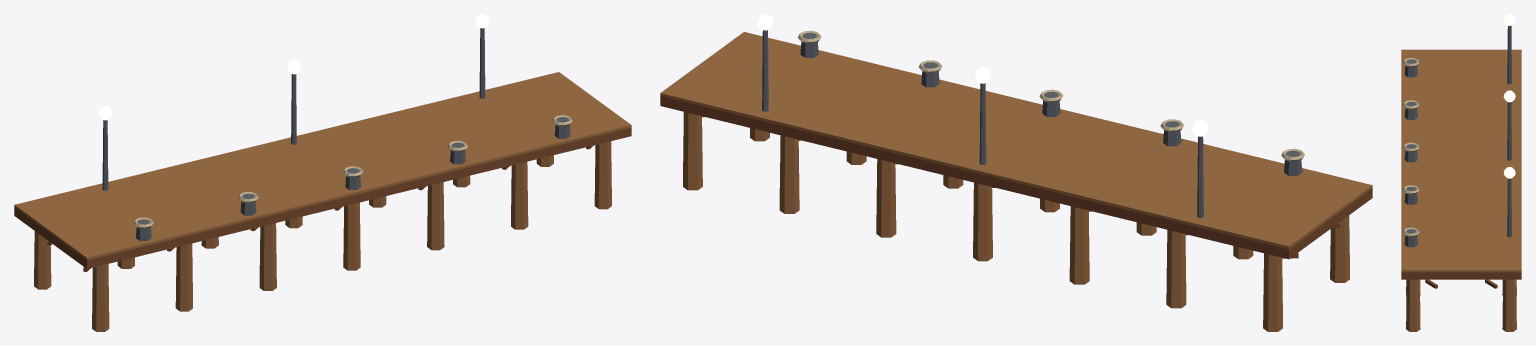
File: jetty.glb
The picture shows the model from 3 angles, left to right: view 1: azimuth 30°, elevation 25°; view 2: azimuth 150°, elevation 25°; view 3: azimuth 270°, elevation 25°; orthographic projection. The views are drawn at different scales.
Parts seen in each view (by area): view 1: jetty; view 2: jetty; view 3: jetty.
Boxes of the visible parts, bbox=[...] form: jetty: bbox=[14, 14, 631, 331]; jetty: bbox=[660, 14, 1372, 331]; jetty: bbox=[1401, 14, 1521, 331].
Bounding box in the file's own units: 26 × 7.5 × 6.
